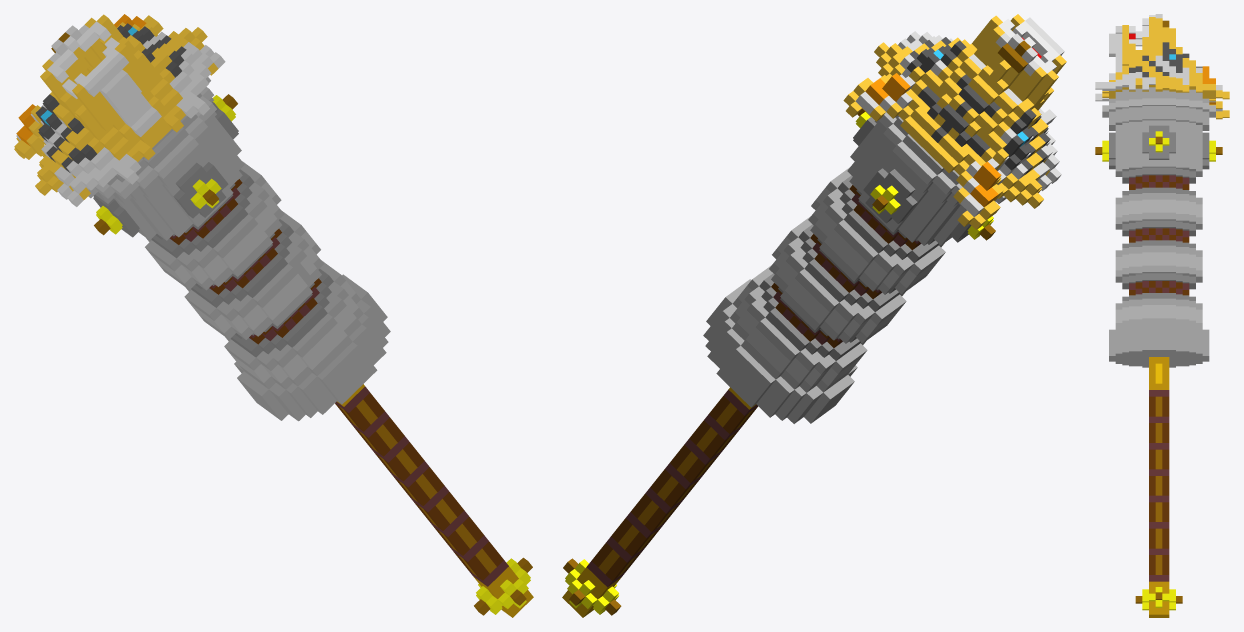
File: cub-lv2.glb
The picture shows the model from 3 angles, left to right: view 1: azimuth 30°, elevation 25°; view 2: azimuth 150°, elevation 25°; view 3: azimuth 270°, elevation 25°; orthographic projection. The views are drawn at different scales.
Visible parts, largest first — view 1: cub lv2; view 2: cub lv2; view 3: cub lv2.
Part boxes in pixels (x1,y1,x2,y2): cub lv2: [14, 14, 533, 617]; cub lv2: [562, 14, 1066, 617]; cub lv2: [1095, 14, 1229, 617].
Bounding box in the file's own units: 0.7526 × 1.02 × 0.2639.
Materials: 1 (1 with a texture image).
